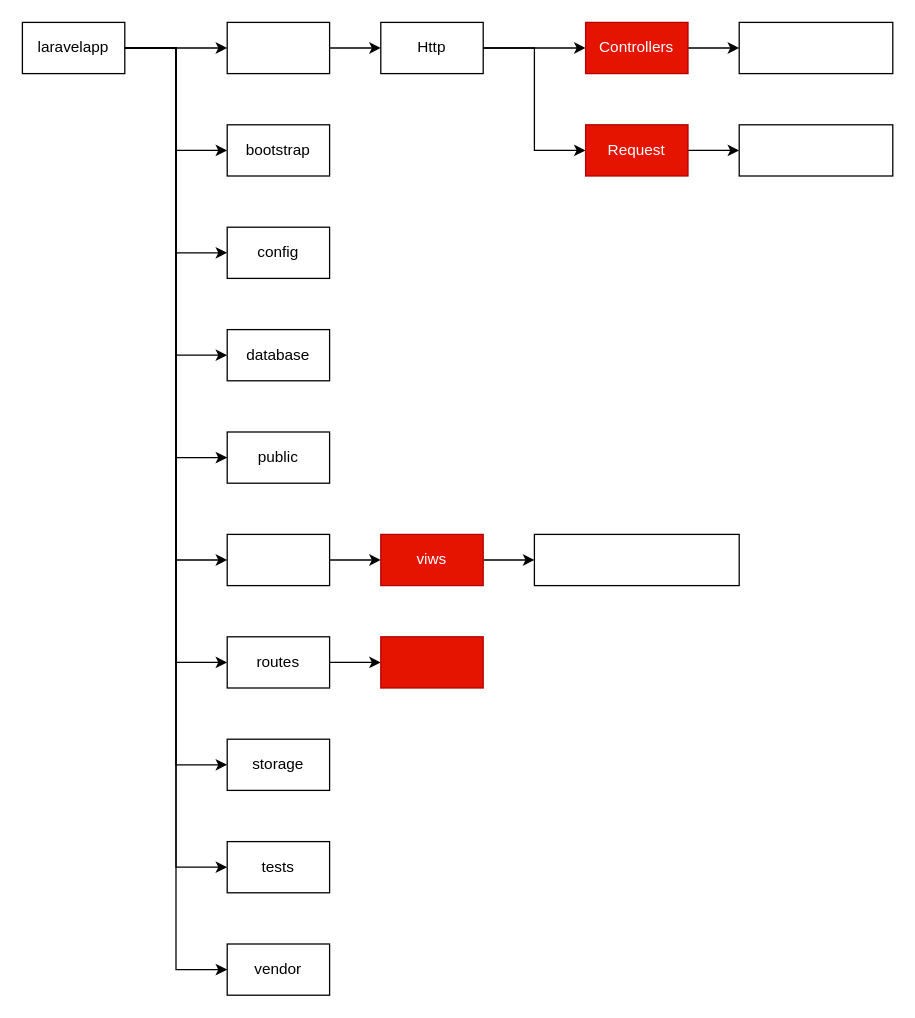
Some shapes in this 915 by 1018 pixel diagram are drawn without their labels. The shapes that lost their labels are listed below. From the top down, each one's centre as x and y in pixels, then its label:
At point (278, 47): "app".
At point (815, 47): "HelloController.php".
At point (815, 150): "HelloRequest.php".
At point (278, 559): "resources".
At point (636, 559): "welcome.blade.php".
At point (431, 662): "web.php".
